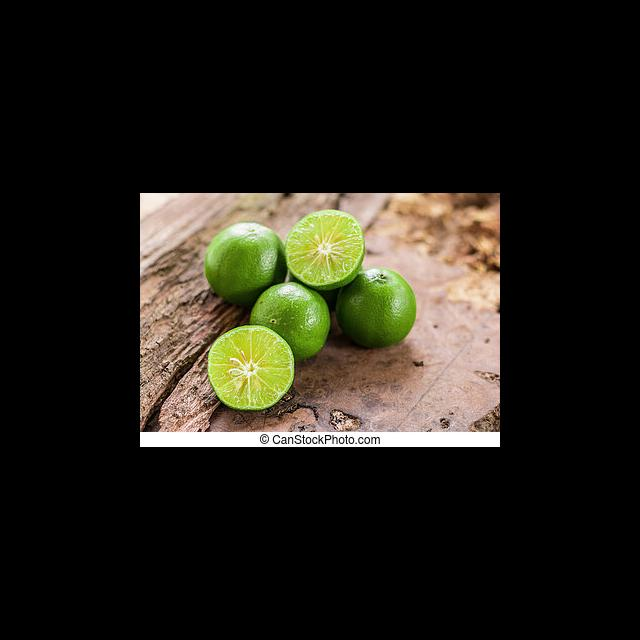lime: (202, 219, 292, 310), (335, 264, 420, 350), (250, 280, 332, 365)
